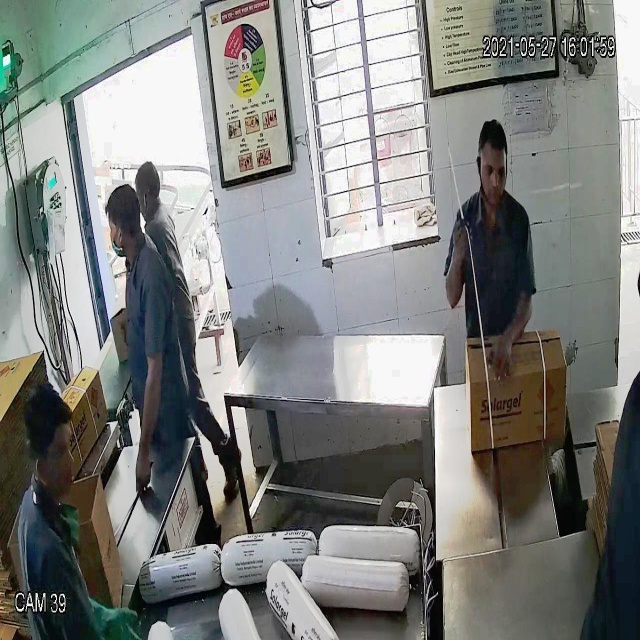Sin_gafas: (470, 154, 514, 188)
